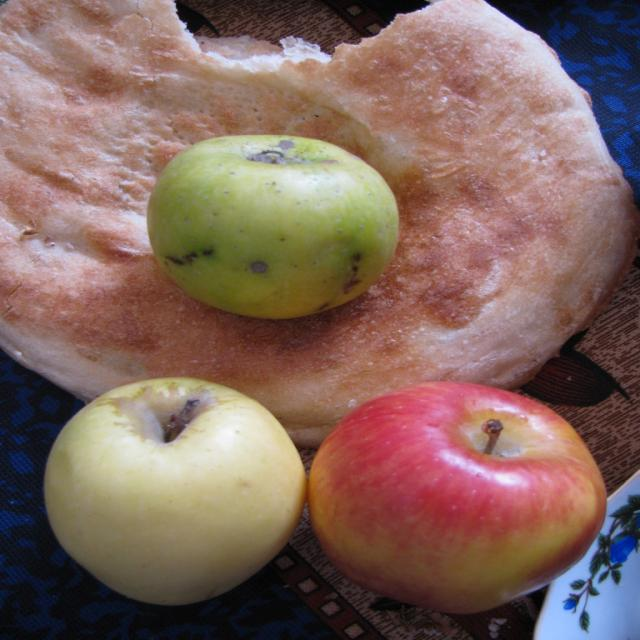Apple: (307, 379, 609, 616), (48, 378, 306, 609), (143, 139, 401, 321)
